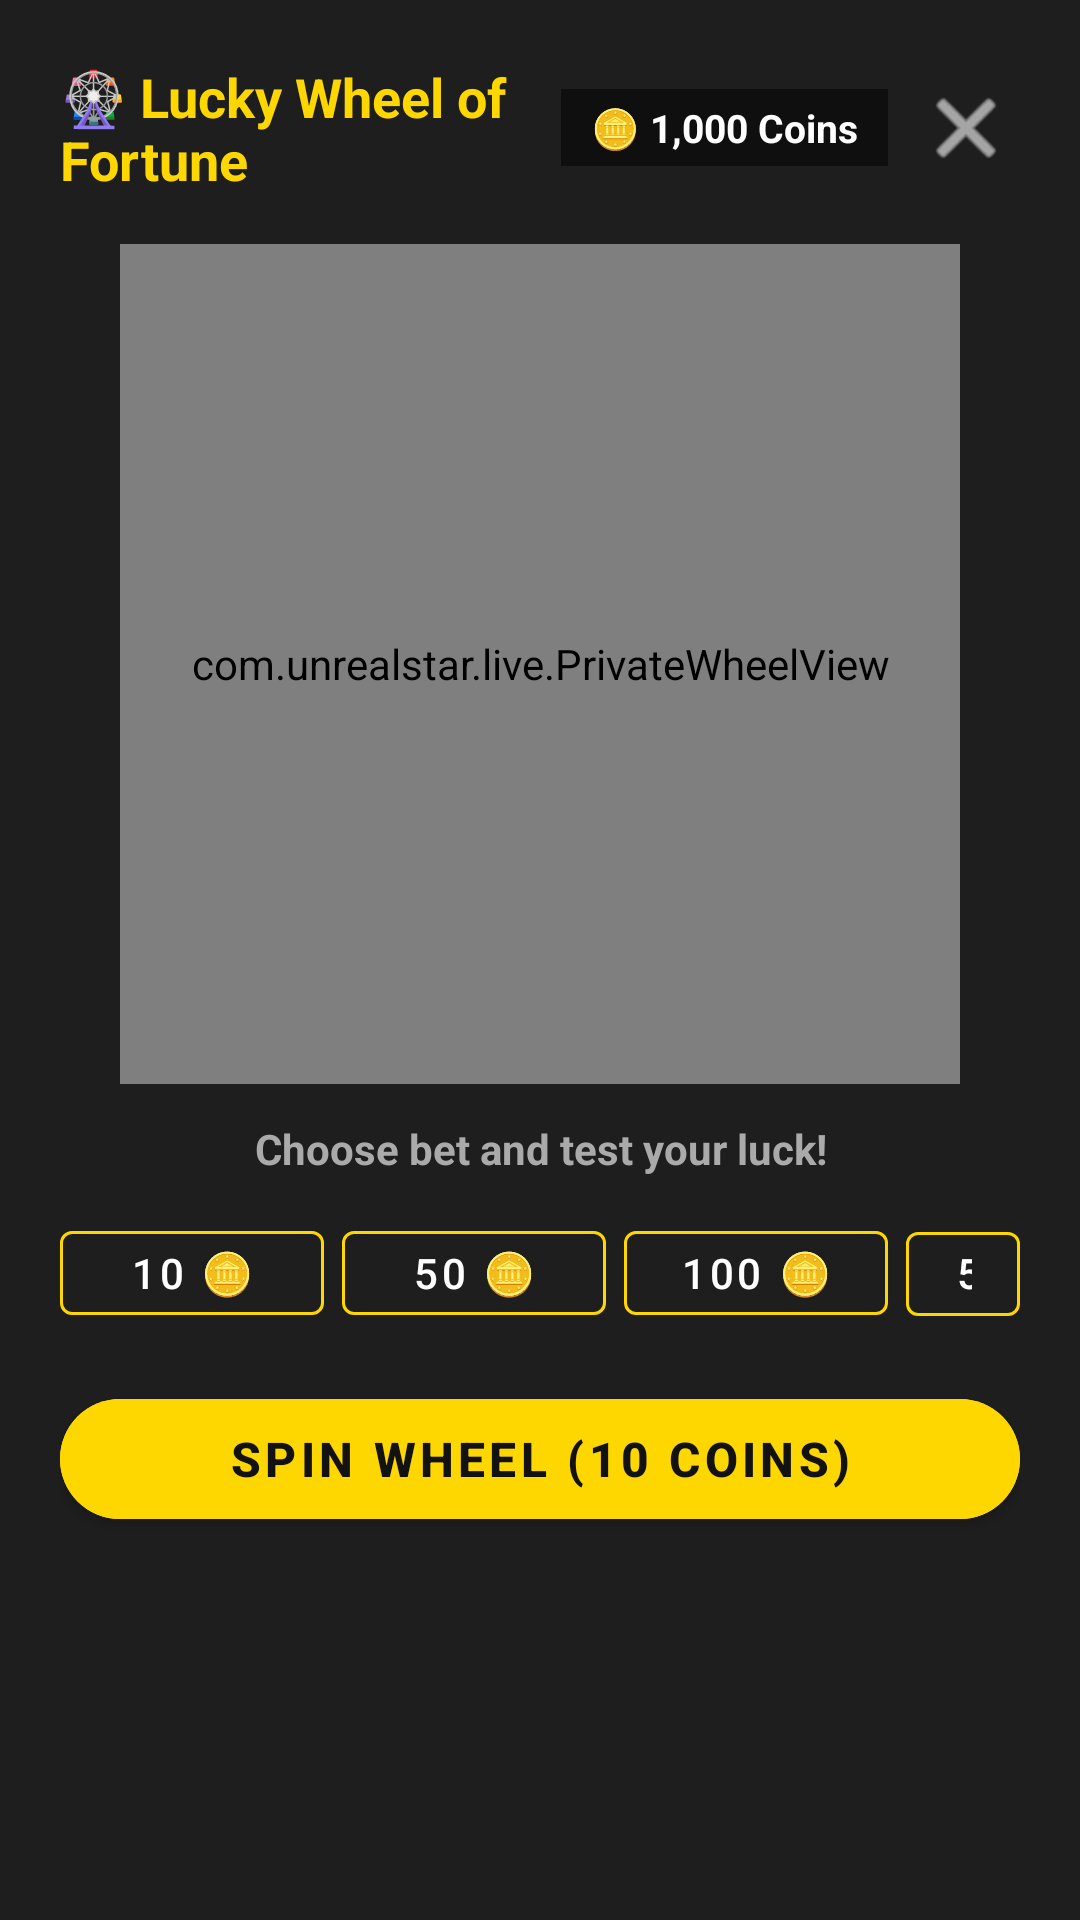

Locate icon controls on the screen. Image size 1080 × 1920, boxes as (x1, y1, x2, y2).
Close: (936, 98, 996, 158)
